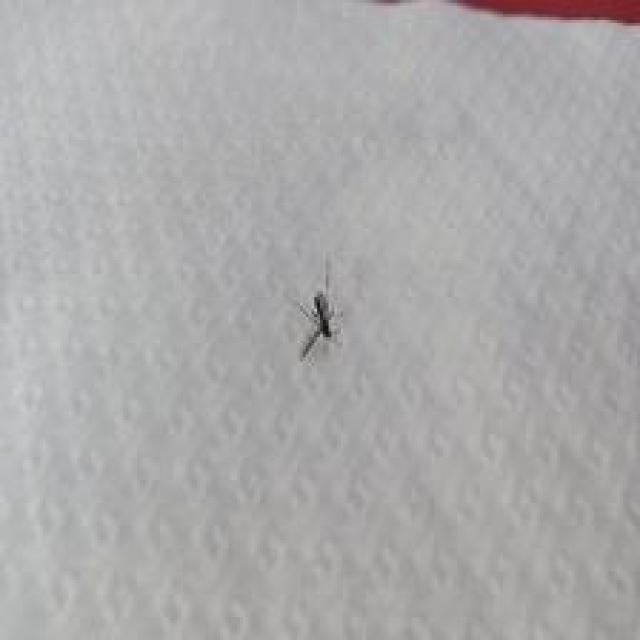Aedes albopictus: (296, 253, 344, 361)
